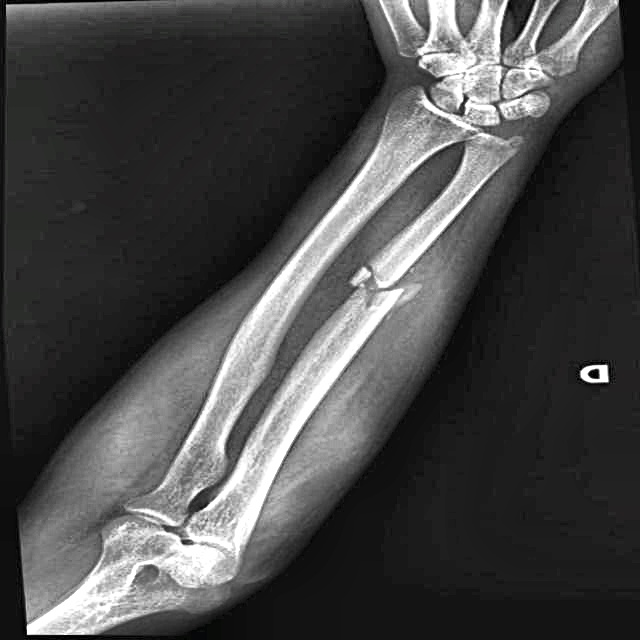Comminuted: (320, 245, 458, 323)
